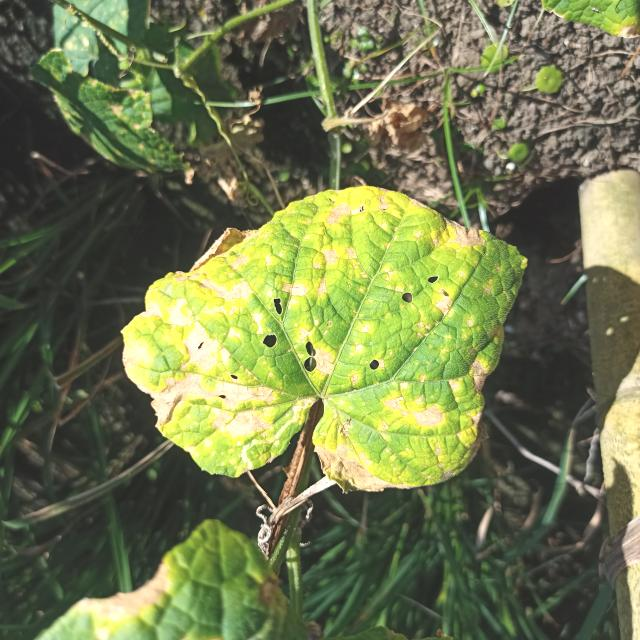disease_cucumber: (119, 190, 505, 496)
